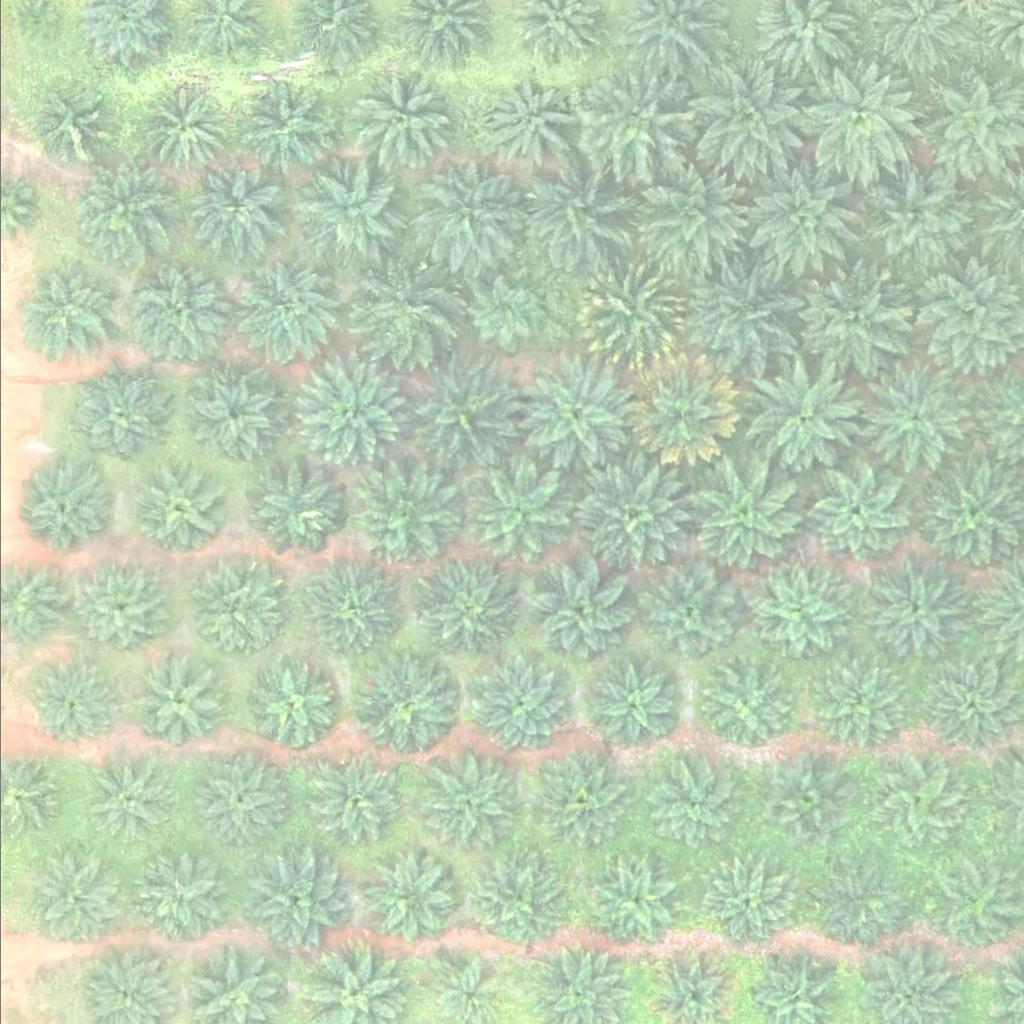Kelapa_Sawit: (283, 356, 397, 469), (856, 163, 969, 276), (802, 266, 915, 379), (684, 265, 797, 378), (857, 557, 970, 670), (456, 458, 569, 571), (623, 354, 736, 467), (574, 256, 687, 369), (522, 356, 635, 469), (404, 353, 517, 466), (686, 63, 800, 175), (516, 157, 630, 269), (413, 161, 527, 273), (580, 66, 694, 178), (797, 62, 910, 174), (745, 165, 858, 277), (851, 363, 964, 475), (745, 360, 858, 472), (687, 464, 800, 576), (574, 457, 687, 569), (630, 154, 743, 266), (803, 464, 904, 564), (808, 656, 909, 756), (581, 851, 682, 951), (465, 852, 566, 952), (241, 850, 342, 950), (645, 757, 746, 857), (528, 754, 629, 854), (419, 753, 520, 853), (302, 752, 403, 852), (186, 750, 287, 850), (468, 653, 569, 753), (355, 658, 456, 758), (637, 563, 738, 663), (528, 561, 629, 661), (412, 559, 513, 659), (302, 561, 403, 661), (358, 469, 459, 569), (297, 160, 398, 260), (348, 69, 449, 169), (236, 77, 337, 177), (69, 164, 170, 264), (124, 258, 225, 358), (14, 263, 115, 363), (28, 847, 129, 947), (807, 858, 907, 958), (247, 458, 347, 558), (354, 265, 454, 365), (233, 258, 333, 358), (66, 369, 166, 469), (15, 461, 115, 561), (69, 563, 169, 663), (877, 757, 965, 845), (758, 760, 846, 848), (702, 860, 790, 948), (244, 660, 332, 748), (186, 366, 274, 454), (136, 87, 224, 175), (131, 660, 219, 748), (25, 662, 113, 750), (85, 758, 173, 846), (752, 569, 840, 656), (928, 664, 1016, 751), (366, 855, 454, 942), (699, 660, 787, 747), (584, 663, 672, 750), (185, 566, 273, 653), (184, 167, 272, 254), (483, 79, 571, 166), (135, 469, 223, 556), (138, 862, 226, 949), (467, 274, 543, 349), (31, 94, 106, 169), (19, 3, 57, 41)
